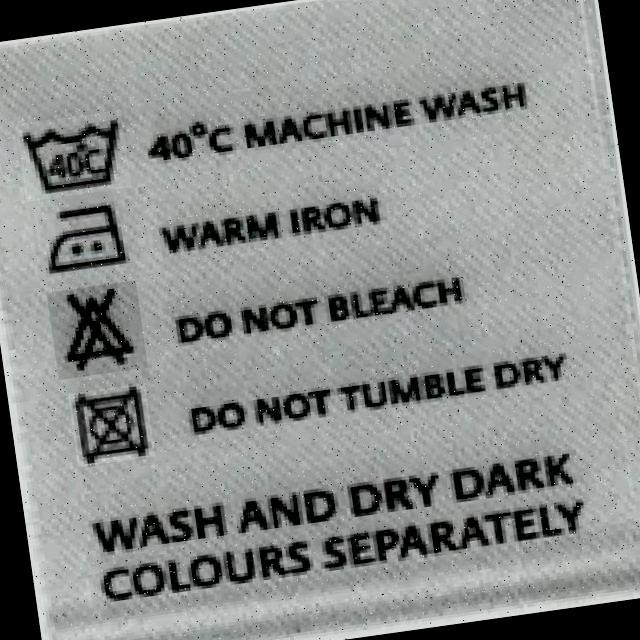40C: (26, 114, 125, 197)
DN_bleach: (56, 284, 138, 369)
DN_tumble_dry: (66, 383, 154, 471)
iron_medium: (44, 202, 134, 275)
